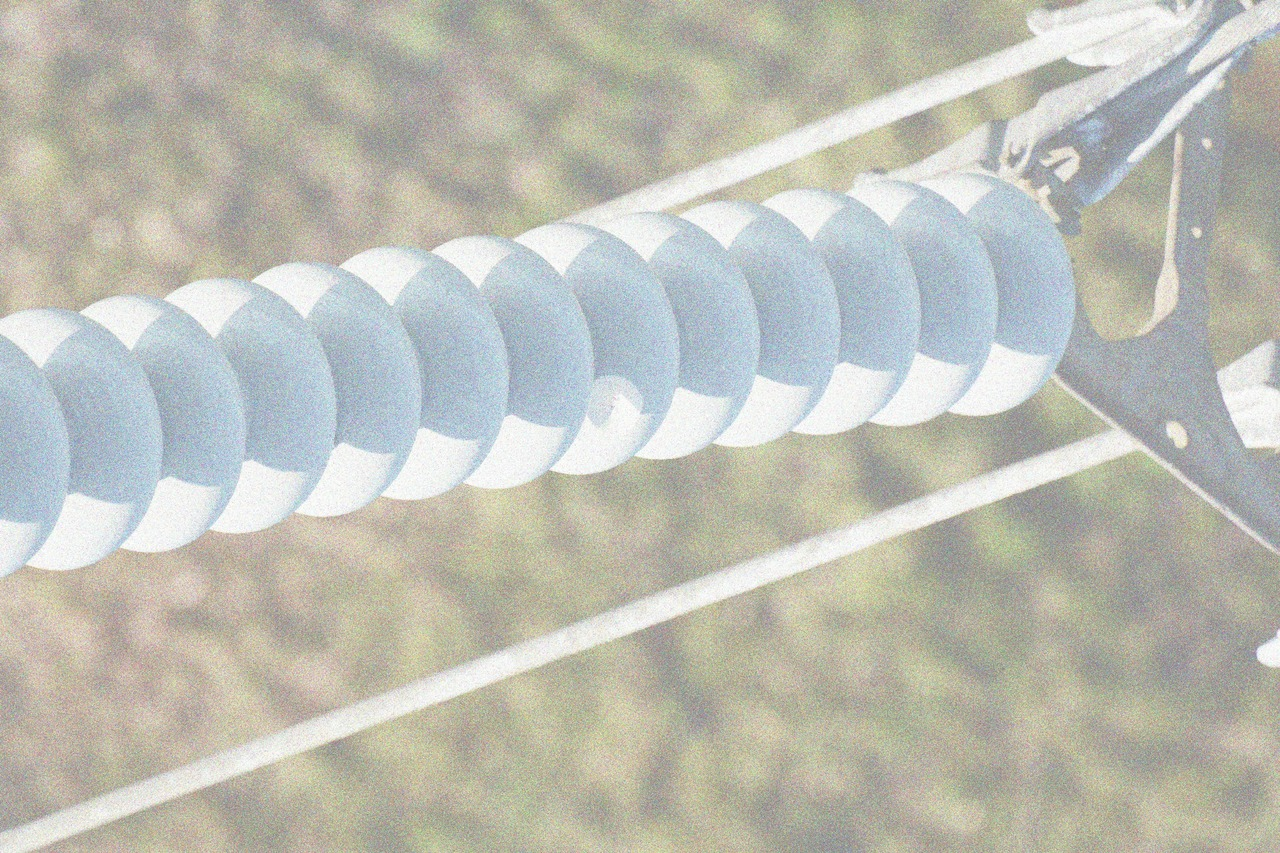Broken: (516, 218, 681, 485)
No issues: (255, 258, 425, 517), (79, 294, 249, 553), (163, 276, 333, 534), (345, 243, 510, 502), (0, 308, 161, 567), (426, 232, 588, 489), (763, 187, 922, 433), (920, 170, 1079, 416), (841, 181, 1000, 427), (679, 200, 838, 446)
String: (0, 165, 1081, 582)
